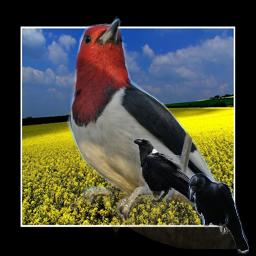Crow: (133, 135, 212, 207), (188, 173, 249, 255)
Woodpecker: (61, 8, 252, 249)
